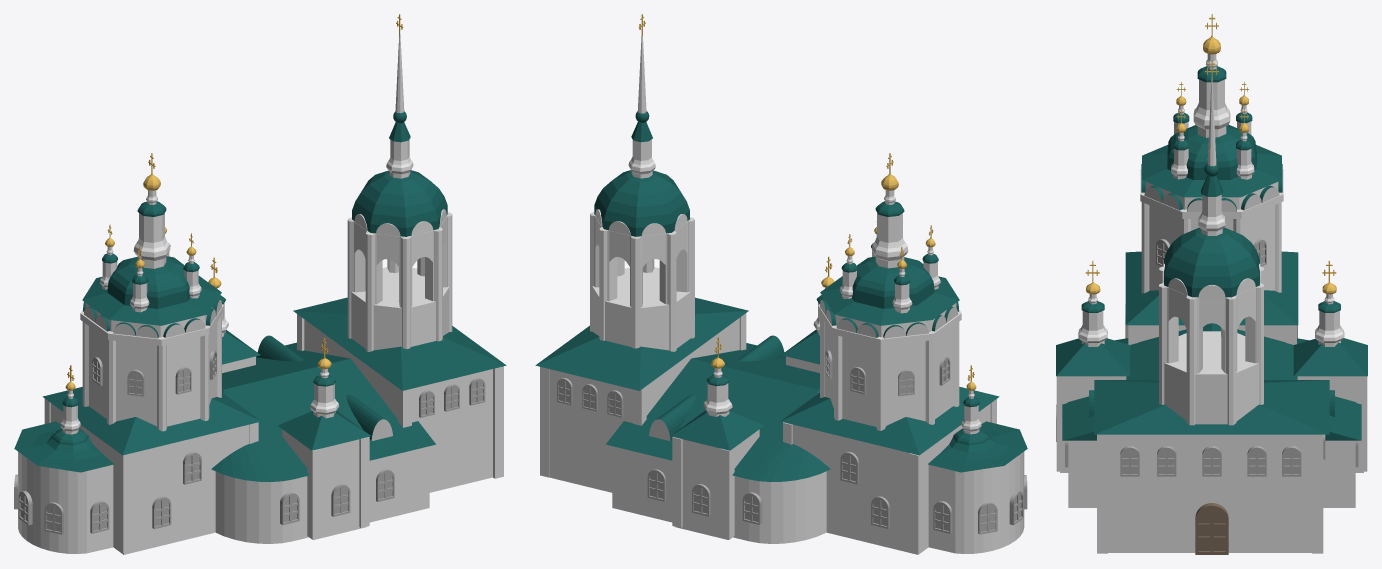
File: bogoyavlenskiy.glb
The picture shows the model from 3 angles, left to right: view 1: azimuth 30°, elevation 25°; view 2: azimuth 150°, elevation 25°; view 3: azimuth 270°, elevation 25°; orthographic projection. The views are drawn at different scales.
Parts seen in each view (by area): view 1: Cylinder.042, Cylinder.023, Cylinder.090, Cylinder.057, Cylinder.020, Cube.030, Cylinder.021, Cylinder.074; view 2: Cylinder.042, Cylinder.023, Cylinder.090, Cylinder.057, Cylinder.020, Cube.030, Cylinder.021, Cylinder.010; view 3: Cylinder.042, Cylinder.023, Cylinder.090, Cylinder.095, Cylinder.020, Cube.030, Cylinder.021.
Boxes of the visible parts, <box> form: Cylinder.042: <box>18,31,503,554</box>; Cylinder.023: <box>14,111,506,481</box>; Cylinder.090: <box>14,350,485,534</box>; Cylinder.057: <box>257,335,392,441</box>; Cylinder.020: <box>83,296,221,338</box>; Cube.030: <box>65,14,403,390</box>; Cylinder.021: <box>80,304,223,345</box>; Cylinder.074: <box>401,236,411,348</box>; Cylinder.042: <box>540,35,1024,554</box>; Cylinder.023: <box>535,111,1027,481</box>; Cylinder.090: <box>557,350,1027,534</box>; Cylinder.057: <box>649,335,784,441</box>; Cylinder.020: <box>820,296,958,338</box>; Cube.030: <box>638,14,976,390</box>; Cylinder.021: <box>818,304,961,345</box>; Cylinder.010: <box>925,339,934,424</box>; Cylinder.042: <box>1056,54,1367,553</box>; Cylinder.023: <box>1056,66,1367,440</box>; Cylinder.090: <box>1056,239,1358,476</box>; Cylinder.095: <box>1195,503,1228,554</box>; Cylinder.020: <box>1141,164,1282,211</box>; Cube.030: <box>1085,14,1336,294</box>; Cylinder.021: <box>1140,169,1283,218</box>.
Size of the model in its own units: 4.83 by 4.67 by 2.82.
